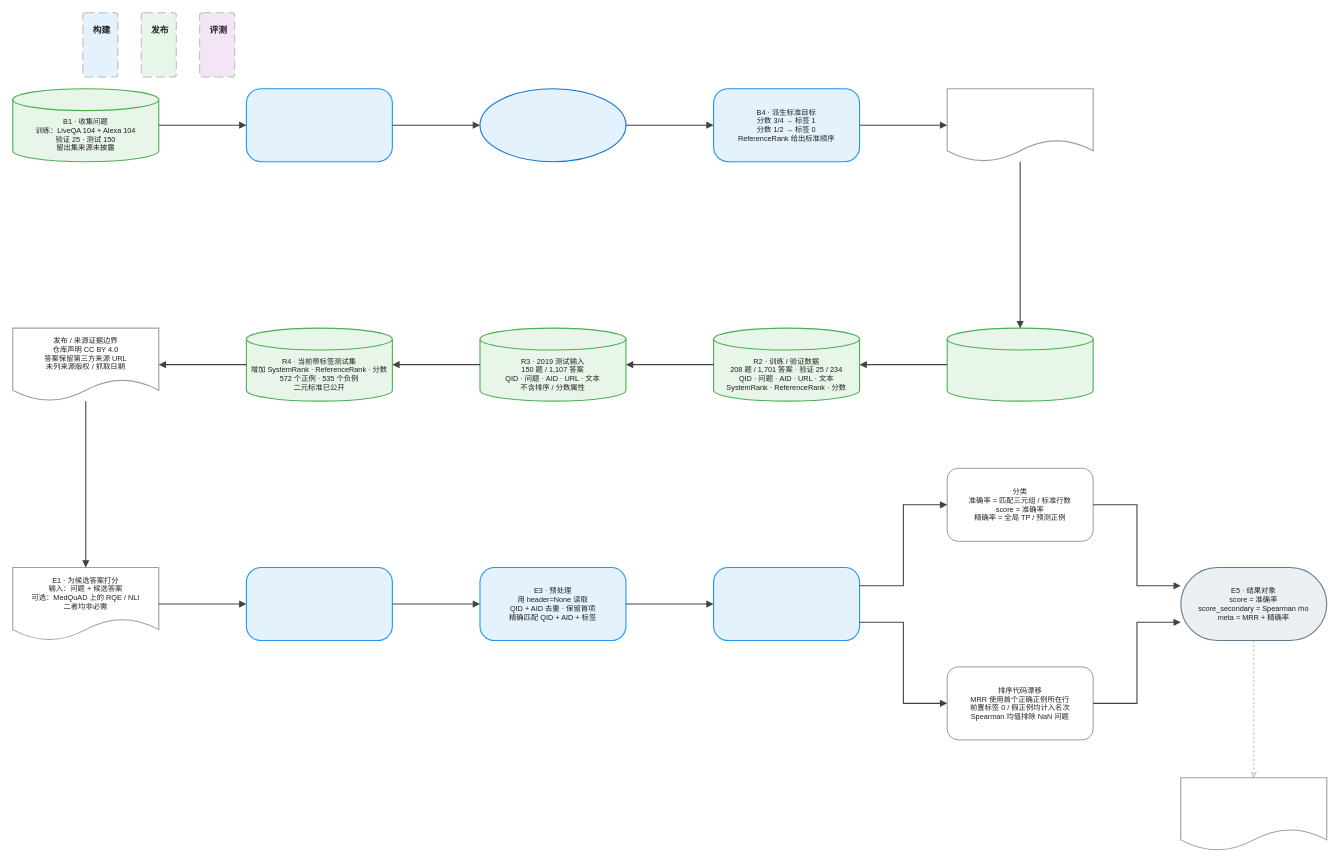
Image size: 1340x864. Some labels were removed from this diagram. The shapes that lost their labels are listed below. From the top down, each one's centre as x and y in pixels, then its label:
pixel 319 125: B2 · 使用 CHiQA 检索 答案数：839 · 862 · 234 · 1,107 CHiQA 给出初始顺序
pixel 552 125: B3 · 专家评分 + 重排 4 优秀 · 3 正确但不完整 2 相关 · 1 错误 标准排序 1–11
pixel 1019 125: 标注 / 质检证据边界 未披露： 专家人数 / 一致性 双标 / 仲裁 检索参数 / 去重
pixel 1019 364: R1 · 固定官方快照 提交 cefa5a1 · 2019-09-04 Task 3 与评测器至 32311a1 未变 README：CC BY 4.0
pixel 319 604: E2 · 提交 CSV QuestionID, AnswerID, Label README 称标签 0 会被过滤 代码仍将每一行计入名次
pixel 786 604: E4 · 独立计算指标 分类 + 排序 共用同一提交和二元标准 不计算综合分
pixel 1253 814: 公开复现缺口 测试标准有表头；解析器假定无表头 示例路径不存在 需修正表头 + 路径
